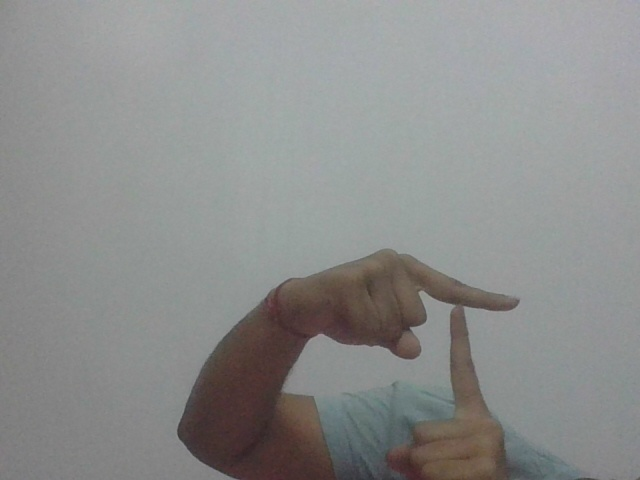T: (298, 241, 526, 480)
